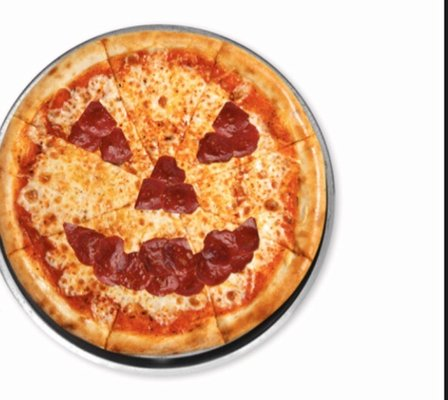curry: (7, 10, 444, 389)
sandwich: (2, 23, 330, 357)
